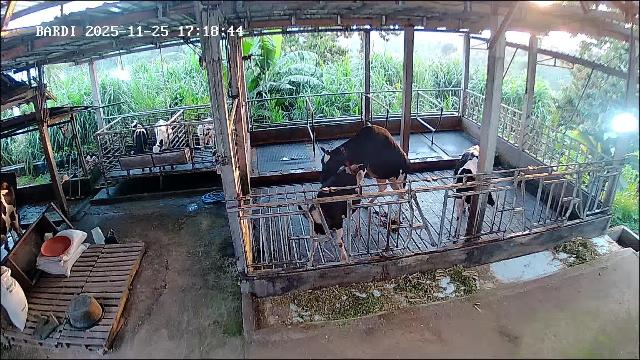mounting: (319, 125, 410, 226)
